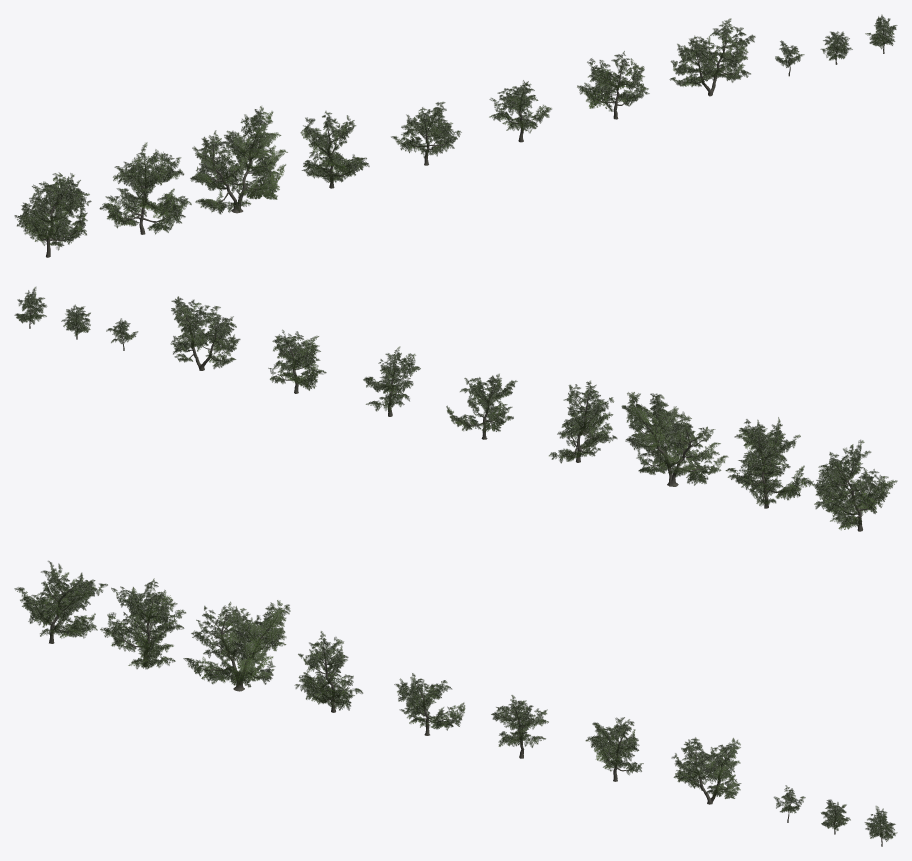
The picture shows the model from 3 angles, top to bottom: view 1: azimuth 30°, elevation 25°; view 2: azimuth 150°, elevation 25°; view 3: azimuth 330°, elevation 25°; orthographic projection.
Visible parts, largest first — view 1: Large_oak_tree_003_LOD1, Large_oak_tree_002_LOD1, Large_oak_tree_001_LOD1, Big_oak_tree__004_LOD1, Large_oak_tree_004_LOD1, Big_oak_tree__003_LOD1, Big_oak_tree__001_LOD1, Big_oak_tree__002_LOD1, Medium_oak_tree__002_LOD1, Medium_oak_tree__003_LOD1; view 2: Large_oak_tree_003_LOD1, Large_oak_tree_001_LOD1, Large_oak_tree_002_LOD1, Big_oak_tree__004_LOD1, Large_oak_tree_004_LOD1, Big_oak_tree__001_LOD1, Big_oak_tree__003_LOD1, Big_oak_tree__002_LOD1, Medium_oak_tree__003_LOD1, Medium_oak_tree__002_LOD1; view 3: Large_oak_tree_003_LOD1, Large_oak_tree_002_LOD1, Large_oak_tree_001_LOD1, Big_oak_tree__004_LOD1, Large_oak_tree_004_LOD1, Big_oak_tree__001_LOD1, Big_oak_tree__003_LOD1, Big_oak_tree__002_LOD1, Medium_oak_tree__003_LOD1.
Part boxes in pixels (x1,y1,x2,y2): Large_oak_tree_003_LOD1: [190, 106, 287, 214]; Large_oak_tree_002_LOD1: [99, 142, 191, 234]; Large_oak_tree_001_LOD1: [14, 172, 91, 257]; Big_oak_tree__004_LOD1: [669, 18, 755, 96]; Large_oak_tree_004_LOD1: [300, 111, 369, 188]; Big_oak_tree__003_LOD1: [577, 51, 649, 119]; Big_oak_tree__001_LOD1: [391, 102, 461, 165]; Big_oak_tree__002_LOD1: [489, 80, 551, 142]; Medium_oak_tree__002_LOD1: [820, 31, 852, 64]; Medium_oak_tree__003_LOD1: [865, 14, 897, 53]; Large_oak_tree_003_LOD1: [621, 392, 728, 486]; Large_oak_tree_001_LOD1: [804, 439, 897, 531]; Large_oak_tree_002_LOD1: [725, 417, 811, 508]; Big_oak_tree__004_LOD1: [170, 296, 240, 370]; Large_oak_tree_004_LOD1: [549, 380, 617, 463]; Big_oak_tree__001_LOD1: [446, 373, 517, 439]; Big_oak_tree__003_LOD1: [268, 329, 326, 393]; Big_oak_tree__002_LOD1: [363, 346, 420, 416]; Medium_oak_tree__003_LOD1: [14, 287, 46, 328]; Medium_oak_tree__002_LOD1: [61, 304, 90, 339]; Large_oak_tree_003_LOD1: [183, 600, 290, 691]; Large_oak_tree_002_LOD1: [100, 578, 185, 669]; Large_oak_tree_001_LOD1: [14, 561, 107, 643]; Big_oak_tree__004_LOD1: [671, 737, 741, 804]; Large_oak_tree_004_LOD1: [294, 631, 362, 712]; Big_oak_tree__001_LOD1: [394, 673, 465, 735]; Big_oak_tree__003_LOD1: [585, 717, 643, 781]; Big_oak_tree__002_LOD1: [491, 695, 548, 758]; Medium_oak_tree__003_LOD1: [864, 806, 897, 846].
Size of the model in its own units: 279 by 28.08 by 27.07.
Materials: 2 (2 with a texture image).
